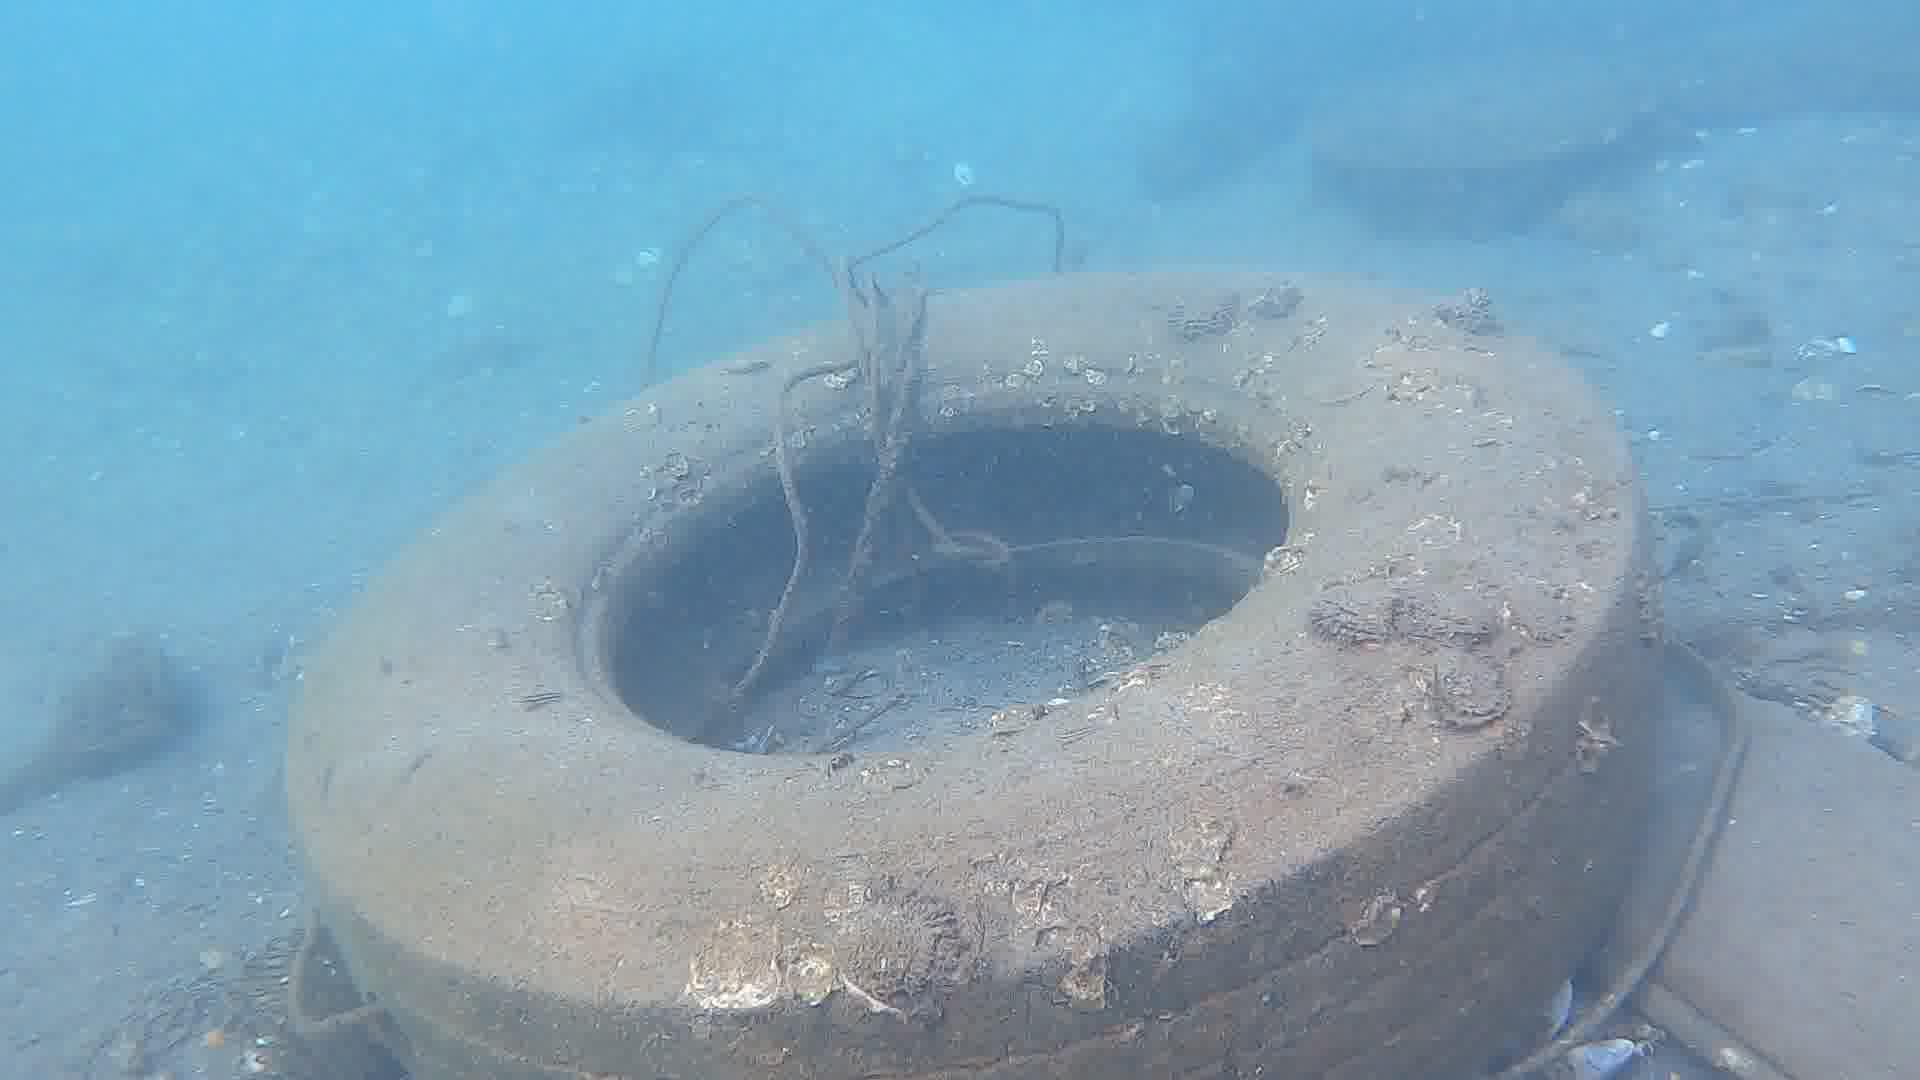bundle of ropes: (741, 194, 1065, 680)
rope: (647, 195, 847, 382)
tire: (287, 255, 1660, 1080)
